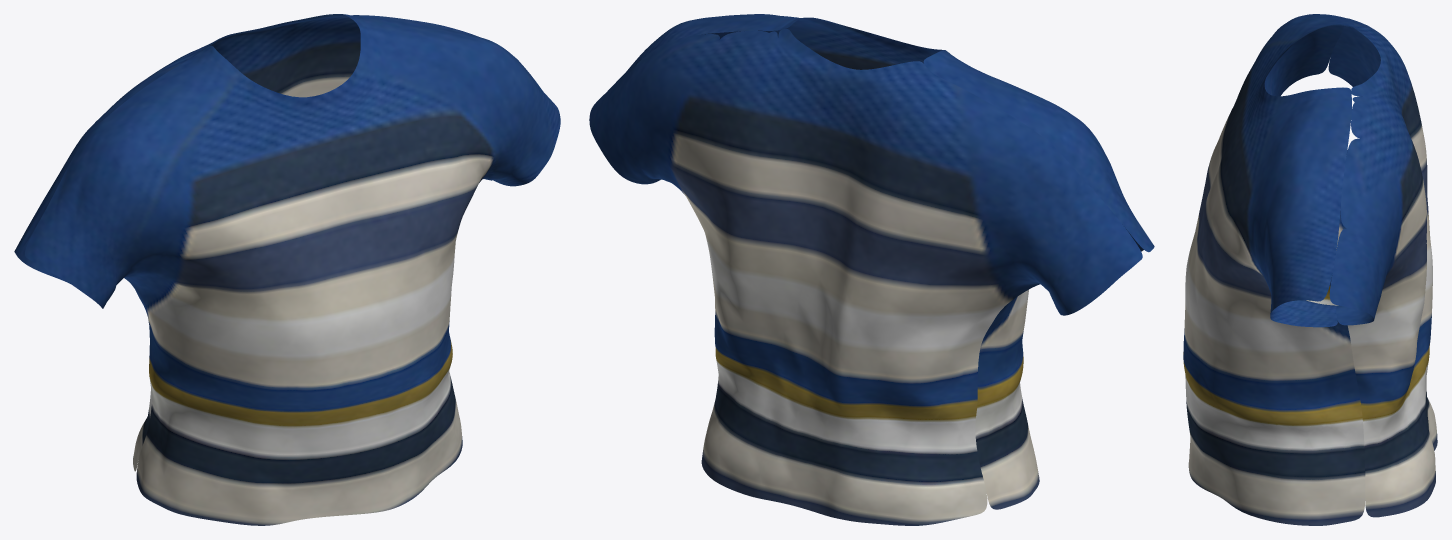
File: TS_XLM.dae
3 views of the same model, side by side, from view 1: azimuth 30°, elevation 25°; view 2: azimuth 150°, elevation 25°; view 3: azimuth 270°, elevation 25° (orthographic). The views are drawn at different scales.
Parts seen in each view (by area): view 1: tshirt; view 2: tshirt; view 3: tshirt.
Part boxes in pixels (left/top/right/bottom): tshirt: left=14, top=14, right=560, bottom=525; tshirt: left=589, top=14, right=1154, bottom=525; tshirt: left=1183, top=14, right=1437, bottom=525.
Bounding box in the file's own units: 6.49 × 4.95 × 2.81.
